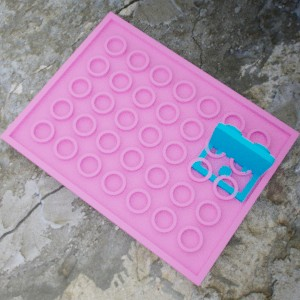lego: (0, 11, 300, 286), (190, 122, 275, 203)
